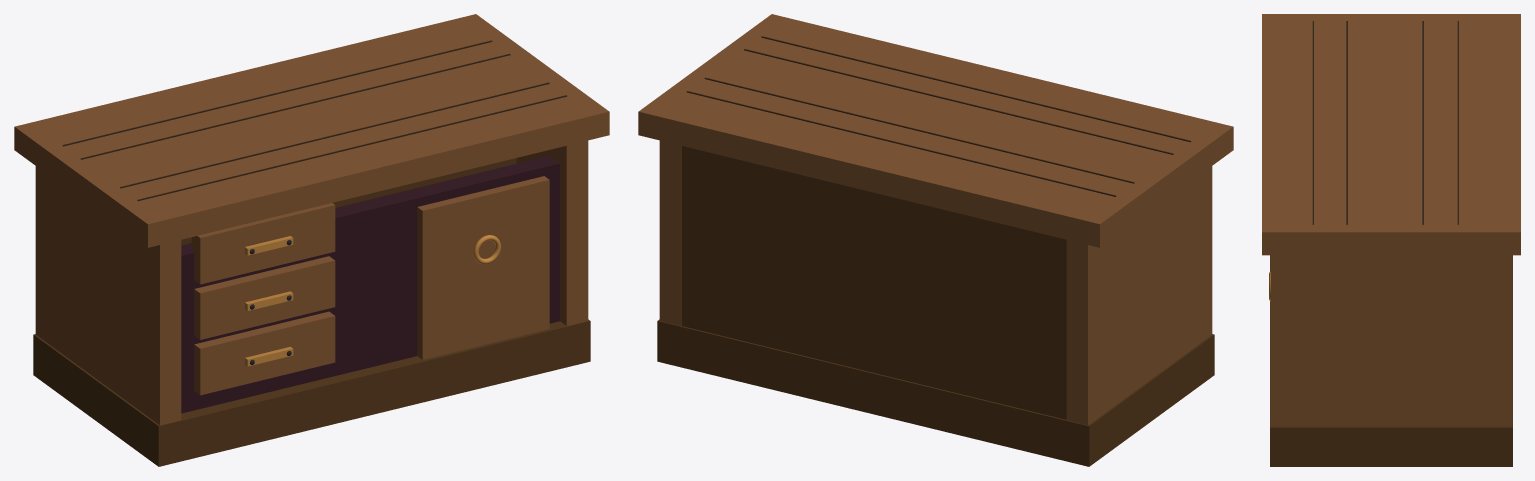
File: mia-teacher_desk.glb
The picture shows the model from 3 angles, left to right: view 1: azimuth 30°, elevation 25°; view 2: azimuth 150°, elevation 25°; view 3: azimuth 270°, elevation 25°; orthographic projection. The views are drawn at different scales.
Parts seen in each view (by area): view 1: Body_oak, Body_wood, Body_dark, Body_grain, Body_brass; view 2: Body_oak, Body_wood, Body_grain; view 3: Body_oak, Body_wood, Body_grain.
Boxes of the visible parts, x1=… form: Body_oak: x1=14, y1=14, x2=609, y2=425; Body_wood: x1=33, y1=158, x2=590, y2=466; Body_dark: x1=181, y1=155, x2=559, y2=413; Body_grain: x1=62, y1=40, x2=567, y2=201; Body_brass: x1=245, y1=235, x2=501, y2=366; Body_oak: x1=638, y1=14, x2=1233, y2=425; Body_wood: x1=657, y1=146, x2=1214, y2=466; Body_grain: x1=686, y1=36, x2=1191, y2=196; Body_oak: x1=1262, y1=14, x2=1520, y2=426; Body_wood: x1=1270, y1=255, x2=1512, y2=466; Body_grain: x1=1312, y1=21, x2=1458, y2=224.
Bounding box in the file's own units: 1.7 × 0.88 × 0.851.
